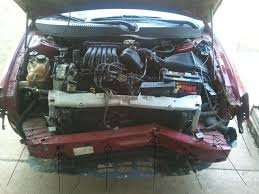Smashed: (1, 81, 244, 174)
